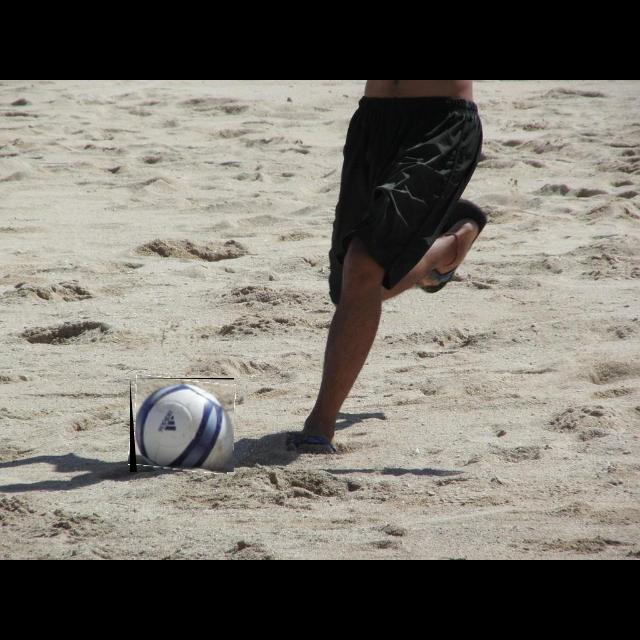Football: (130, 378, 234, 472)
